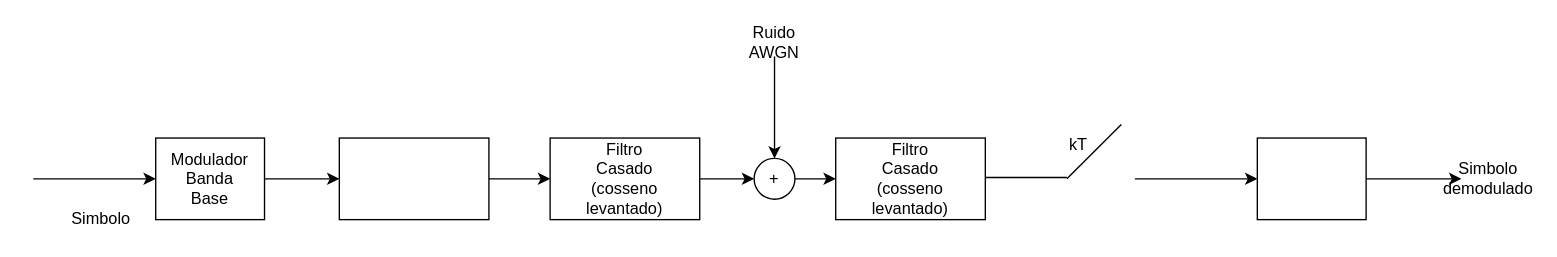
Image size: 1557x257. Some labels were removed from this diagram. The centre of each missing label's shape, as x and y in pixels:
"Decisor" belongs at (x=1311, y=178).
"Resampler (x samples/symbol)" belongs at (x=413, y=178).
